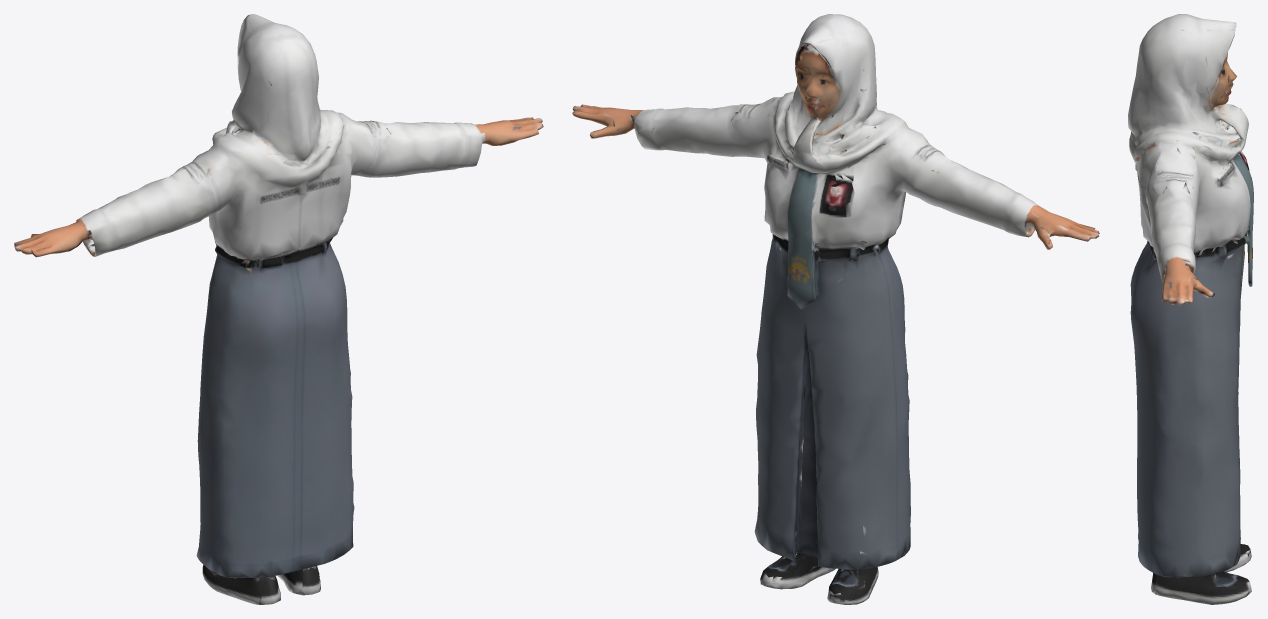
Rendered from teen-girl-hijab.glb.
The picture shows the model from 3 angles, left to right: view 1: azimuth 30°, elevation 25°; view 2: azimuth 150°, elevation 25°; view 3: azimuth 270°, elevation 25°; orthographic projection.
Visible parts, largest first — view 1: body; view 2: body; view 3: body.
Part boxes in pixels (x1,y1,x2,y2): body: (14,14,543,604); body: (572,14,1099,604); body: (1128,14,1253,604).
Bounding box in the file's own units: 1.62 × 1.65 × 0.3337.
1 material, 1 textured.
